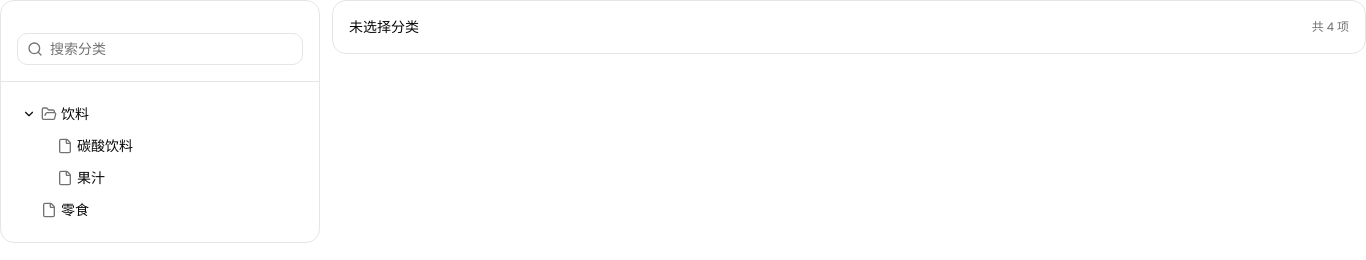
Test: TreeCrudPage › renders the clear-search button and clears the query when clicked (uncontrolled)
Type "果汁" into the search field labelled "搜索分类".
click(160, 49); type("果汁")  # box [17,33,303,65]
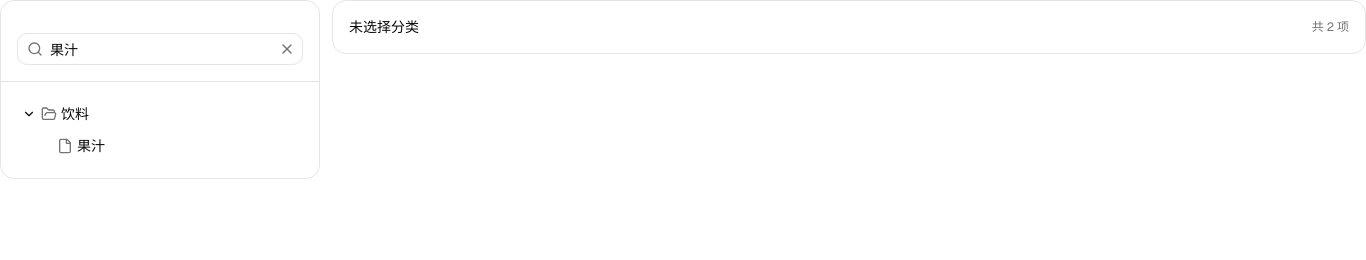
Expected: the button named "清除搜索" is shown
Click the button named "清除搜索".
click(287, 49)  # box [279,41,295,57]
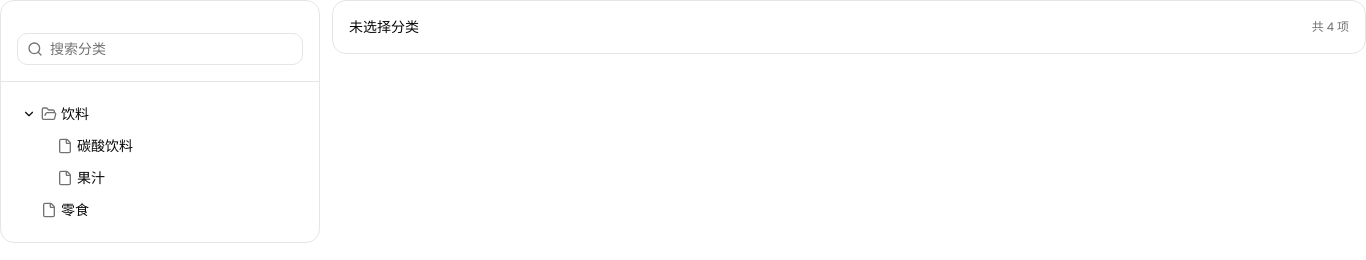
Expected: the search field labelled "搜索分类" is empty, [17,33,303,65]
